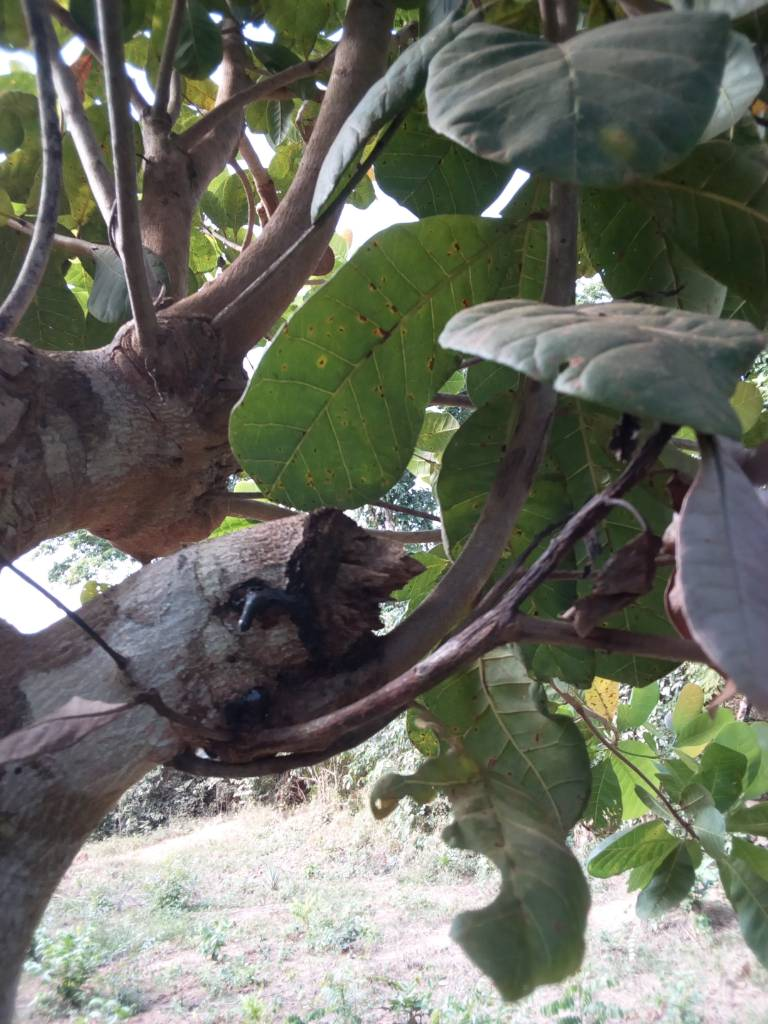Analepse trifasciata: (218, 502, 436, 672)
